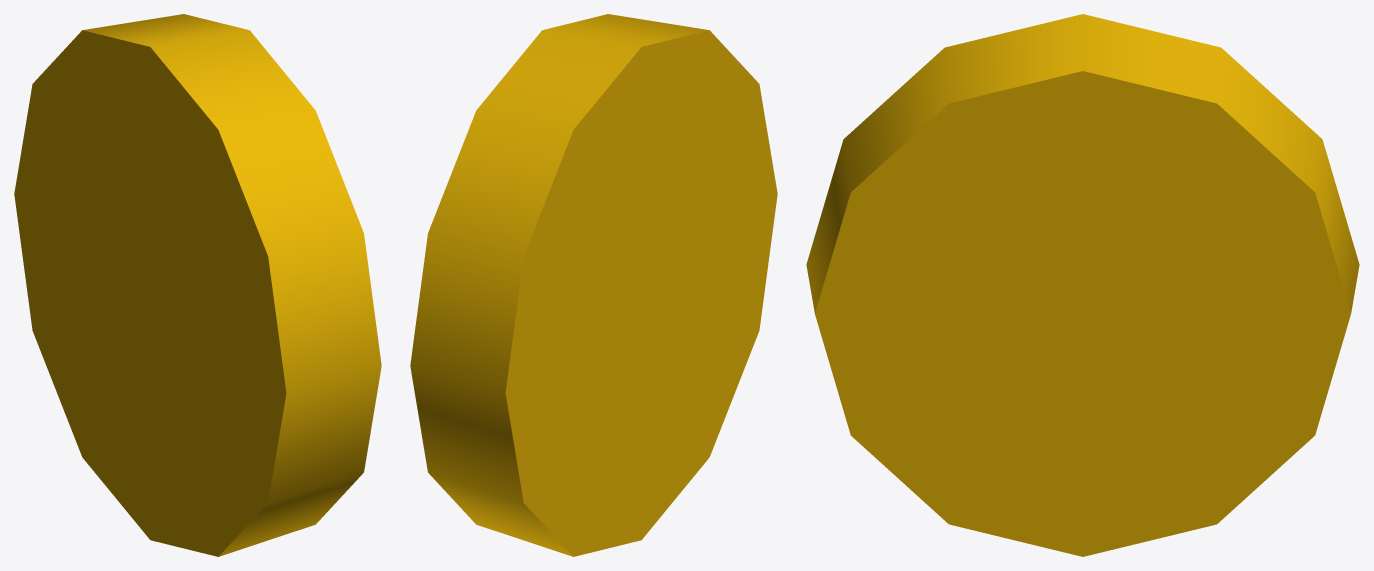
Rendered from SM_CarrotSlice.fbx.
3 renders of one model, left to right at view 1: azimuth 30°, elevation 25°; view 2: azimuth 150°, elevation 25°; view 3: azimuth 270°, elevation 25°, orthographic.
Visible parts, largest first — view 1: polySurface4; view 2: polySurface4; view 3: polySurface4.
Boxes of the visible parts, left/top/right/bottom form: polySurface4: left=14, top=14, right=381, bottom=556; polySurface4: left=410, top=14, right=777, bottom=556; polySurface4: left=806, top=14, right=1359, bottom=556.
Size of the model in its own units: 10.28 by 48.73 by 48.73.
